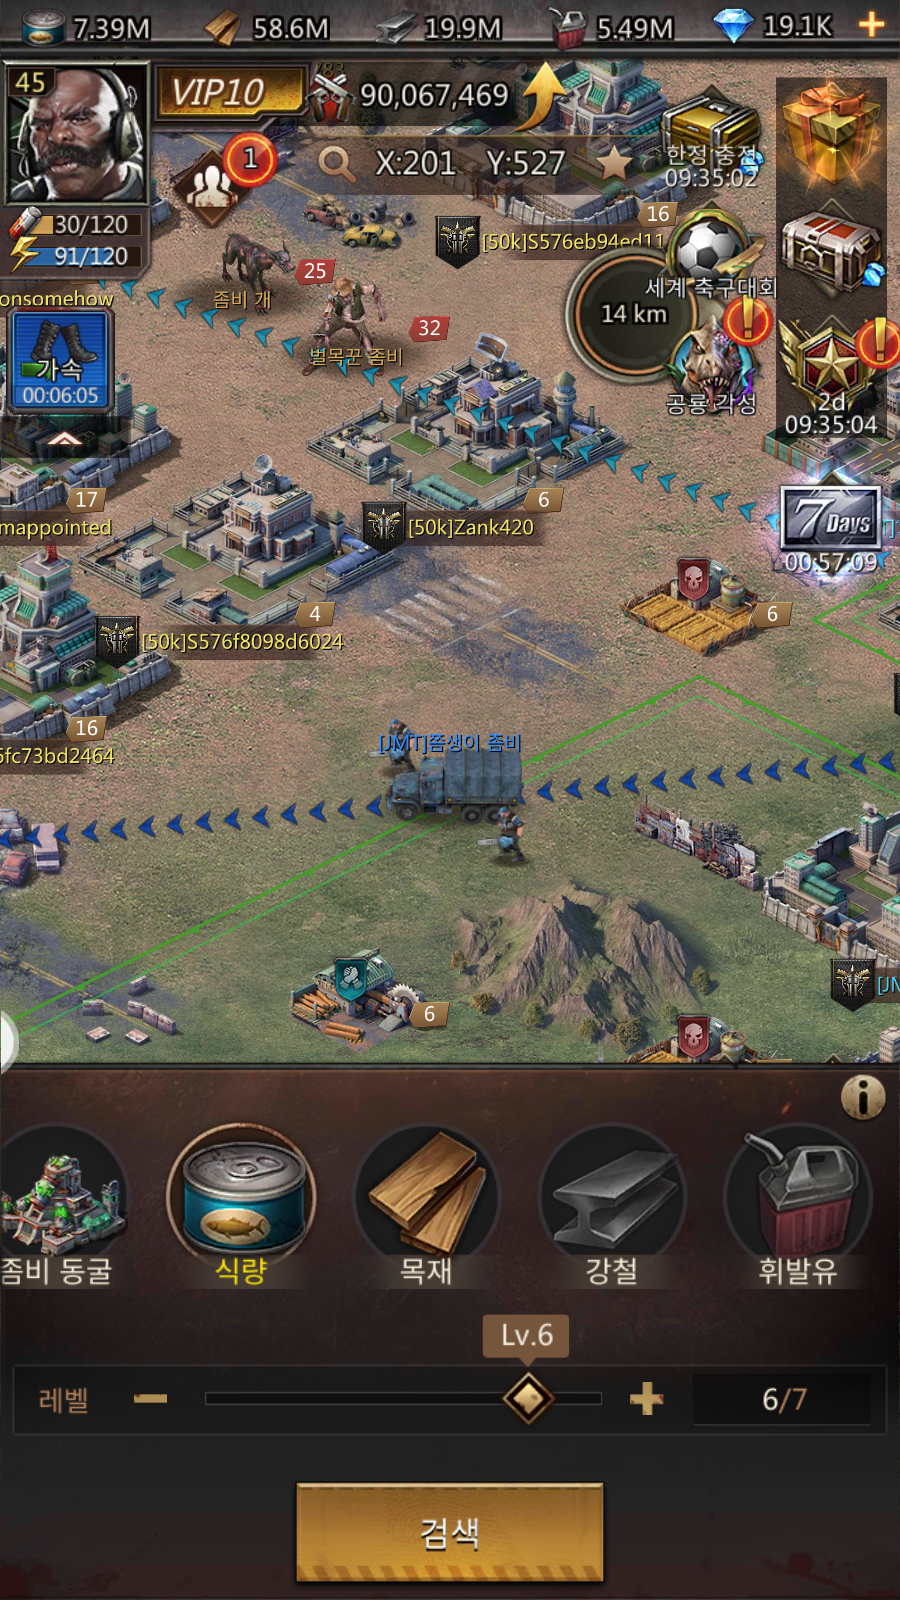rss_food_in_panel: (163, 1122, 322, 1291)
rss_gas_in_panel: (724, 1122, 880, 1293)
rss_lv6: (483, 1312, 564, 1359)
rss_minus_in_panel: (119, 1361, 180, 1429)
rss_plus_in_panel: (620, 1368, 676, 1430)
rss_search_in_panel: (297, 1485, 605, 1574)
rss_steel_in_panel: (536, 1125, 697, 1295)
rss_wood_in_panel: (358, 1125, 488, 1293)
troops_cnt_1: (153, 122, 292, 241)
